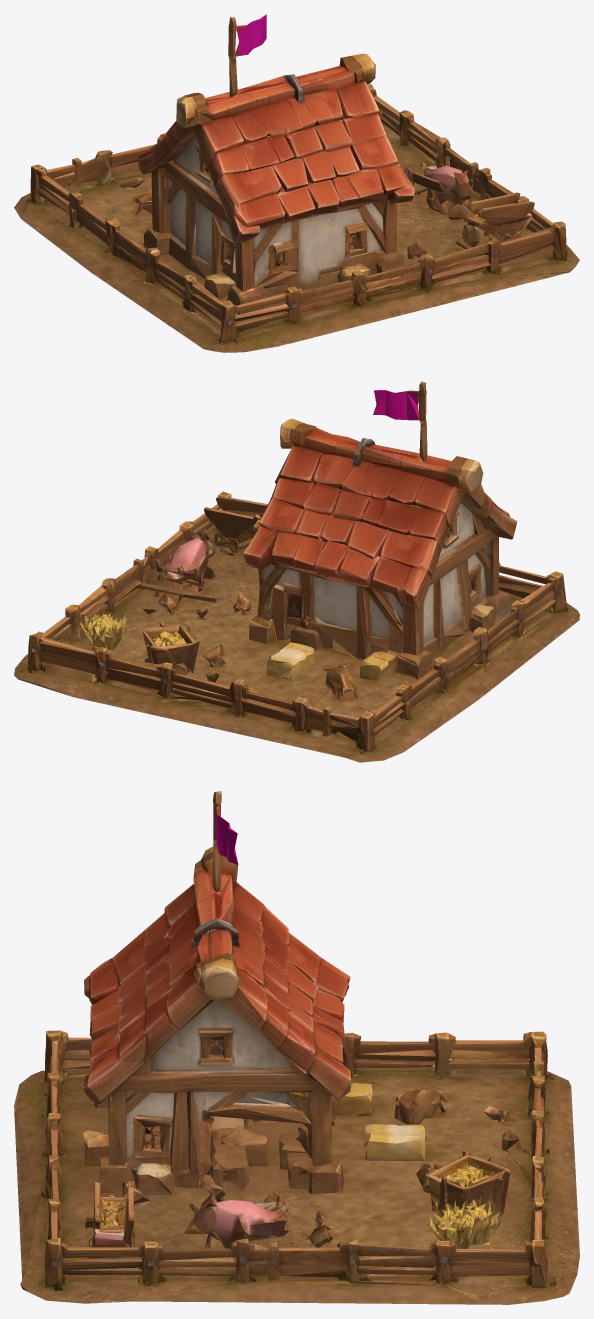
File: farm.glb
The picture shows the model from 3 angles, top to bottom: view 1: azimuth 30°, elevation 25°; view 2: azimuth 150°, elevation 25°; view 3: azimuth 270°, elevation 25°; orthographic projection. The views are drawn at different scales.
Visible parts, largest first — view 1: Mesh_0; view 2: Mesh_0; view 3: Mesh_0.
Part boxes in pixels (bbox=[...]): Mesh_0: bbox=[14, 14, 579, 352]; Mesh_0: bbox=[14, 381, 579, 762]; Mesh_0: bbox=[14, 791, 579, 1304].
Bounding box in the file's own units: 1.88 × 1.22 × 1.87.
Materials: 1 (1 with a texture image).
